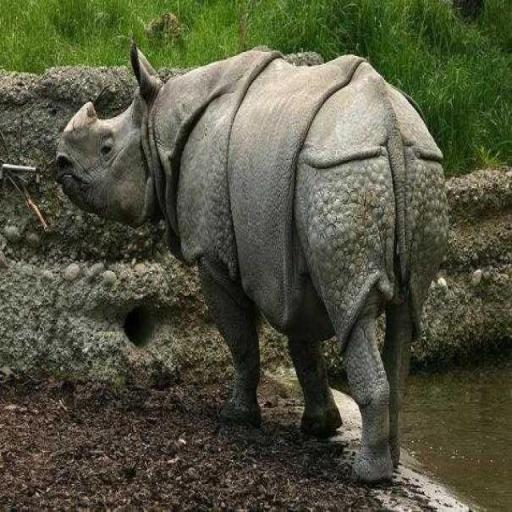Rhino: (54, 38, 449, 485)
